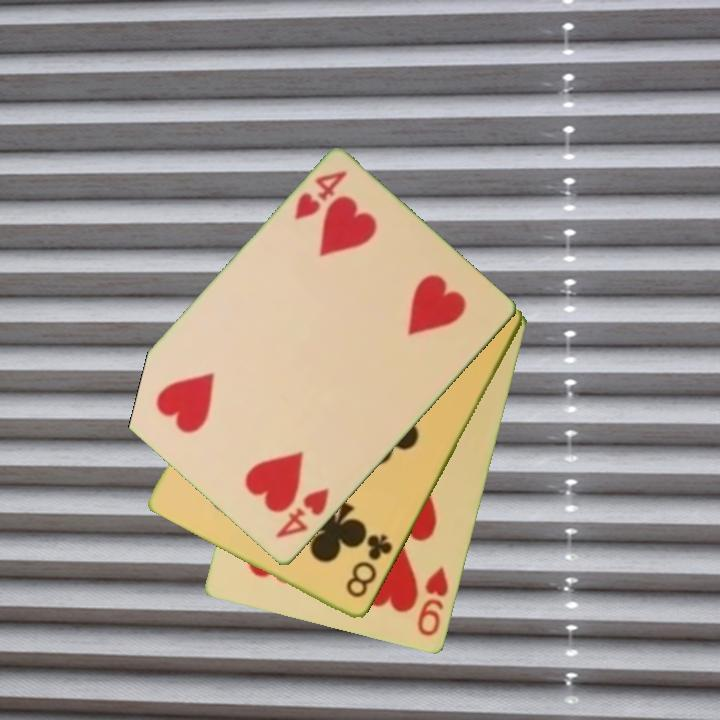4h: (272, 484, 332, 542), (290, 167, 350, 224)
8c: (342, 531, 396, 602)
9h: (414, 563, 452, 640)
